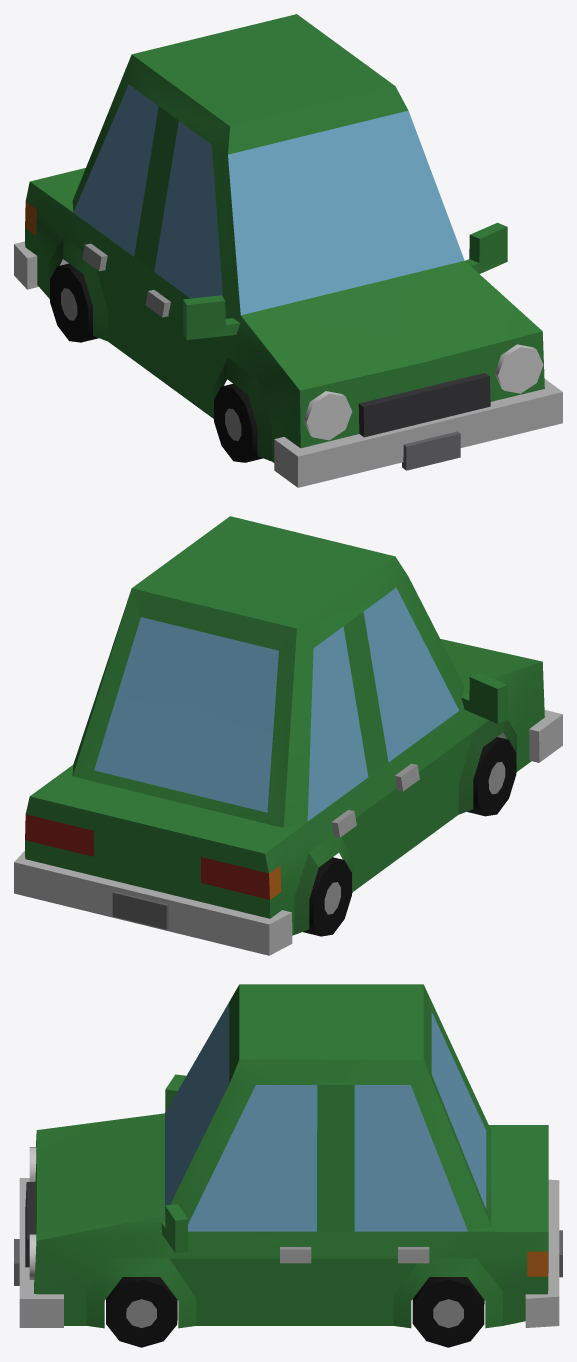
File: Car_021.fbx
3 views of the same model, one above another, from view 1: azimuth 30°, elevation 25°; view 2: azimuth 150°, elevation 25°; view 3: azimuth 270°, elevation 25° (orthographic). The views are drawn at different scales.
Parts seen in each view (by area): view 1: Car_021; view 2: Car_021; view 3: Car_021.
Boxes of the visible parts, x1,y1,x2,y2 form: Car_021: (14,14,562,487); Car_021: (14,516,562,955); Car_021: (14,984,562,1347).
Size of the model in its own units: 147 by 125 by 233.
